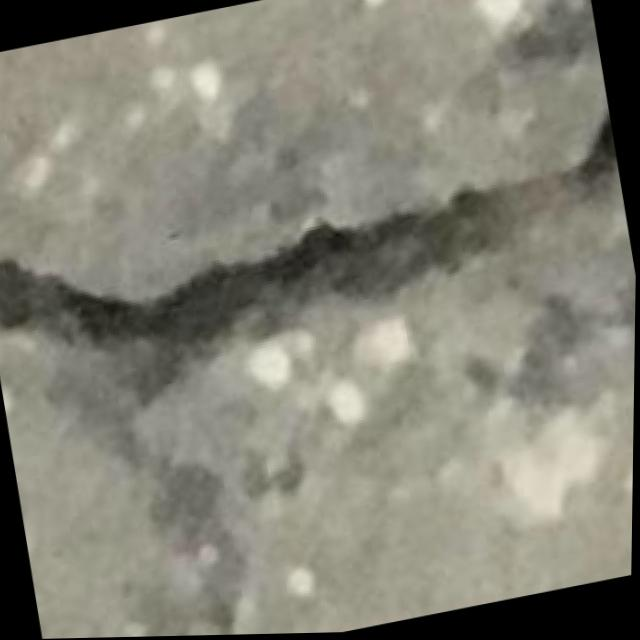Crack: (0, 115, 638, 398)
